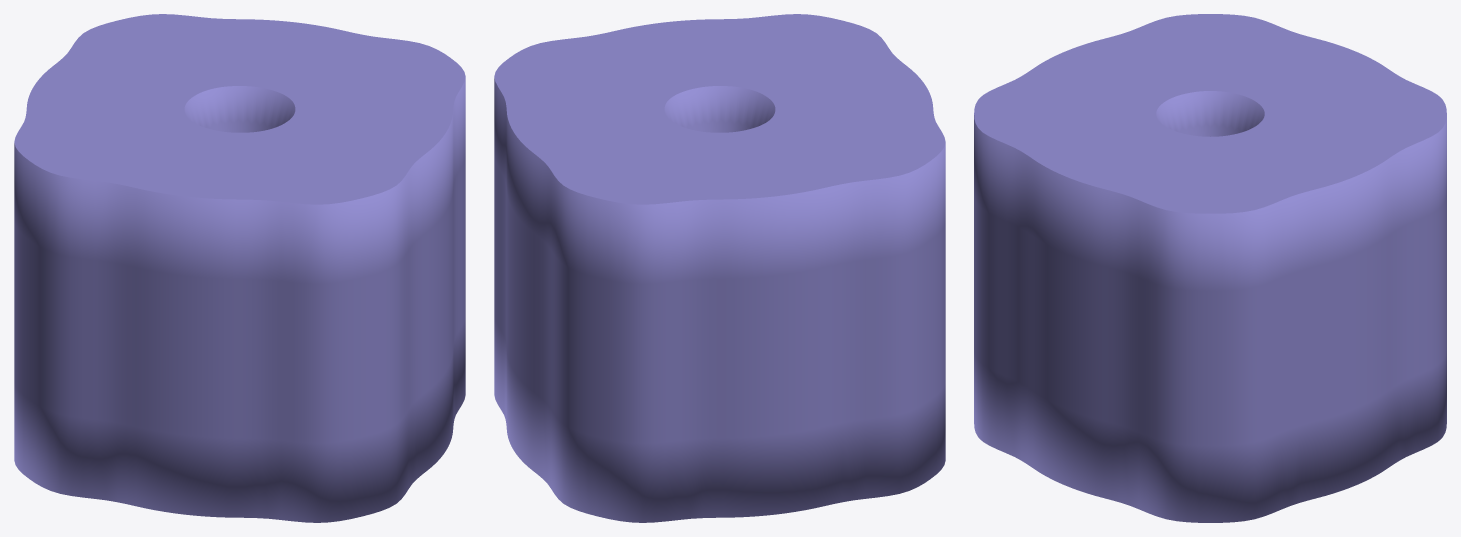
The model's file is PencilSharpener.fbx.
3 renders of one model, left to right at view 1: azimuth 30°, elevation 25°; view 2: azimuth 150°, elevation 25°; view 3: azimuth 270°, elevation 25°, orthographic. The views are drawn at different scales.
Visible parts, largest first — view 1: Sharpener; view 2: Sharpener; view 3: Sharpener.
Part boxes in pixels (x1,y1,x2,y2): Sharpener: (14,14,465,522); Sharpener: (494,14,945,522); Sharpener: (974,14,1446,522).
Bounding box in the file's own units: 199 × 143 × 199.
